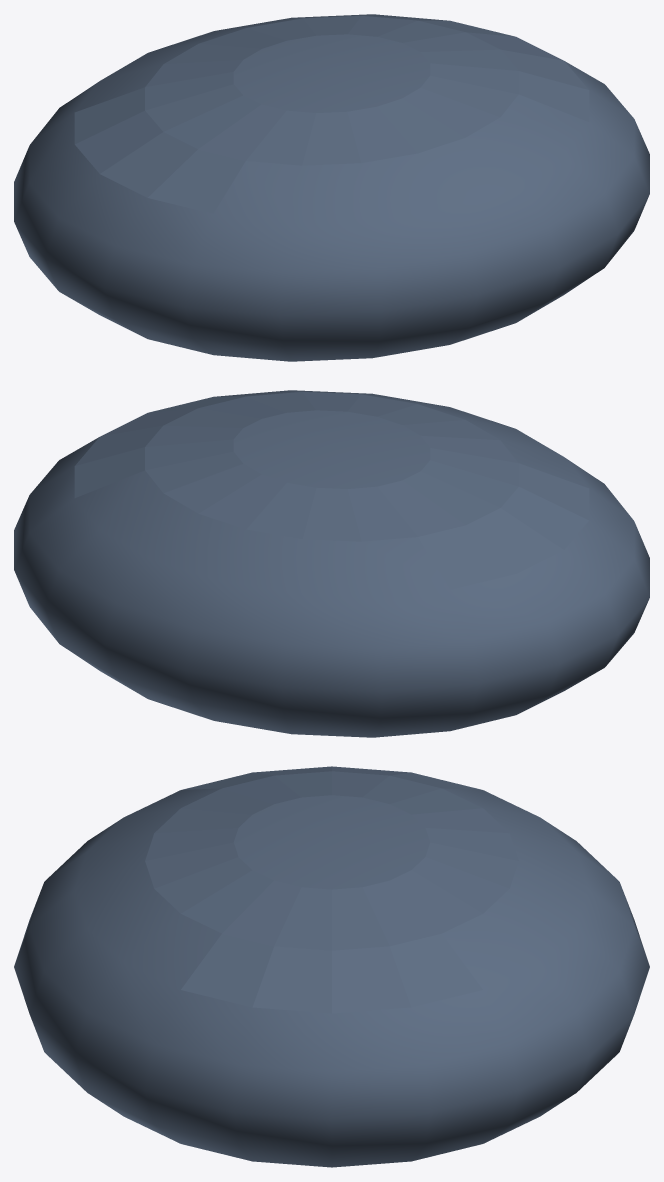
File: Bottom_Trousers.fbx
The picture shows the model from 3 angles, top to bottom: view 1: azimuth 30°, elevation 25°; view 2: azimuth 150°, elevation 25°; view 3: azimuth 270°, elevation 25°; orthographic projection. The views are drawn at different scales.
Visible parts, largest first — view 1: Pants_Seat; view 2: Pants_Seat; view 3: Pants_Seat.
Part boxes in pixels (x1,y1,x2,y2): Pants_Seat: (14, 14, 649, 361); Pants_Seat: (14, 390, 649, 737); Pants_Seat: (14, 766, 649, 1167).
Size of the model in its own units: 50 by 20 by 44.
